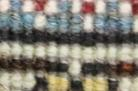Knot: (56, 64, 69, 71), (58, 57, 69, 64), (47, 56, 58, 63), (58, 26, 67, 34), (9, 61, 20, 67), (34, 69, 43, 76), (94, 26, 103, 33), (58, 34, 67, 41), (45, 26, 54, 33), (23, 29, 32, 35), (109, 76, 117, 82), (56, 71, 65, 76), (34, 85, 43, 89), (12, 55, 20, 59), (133, 58, 136, 64)
